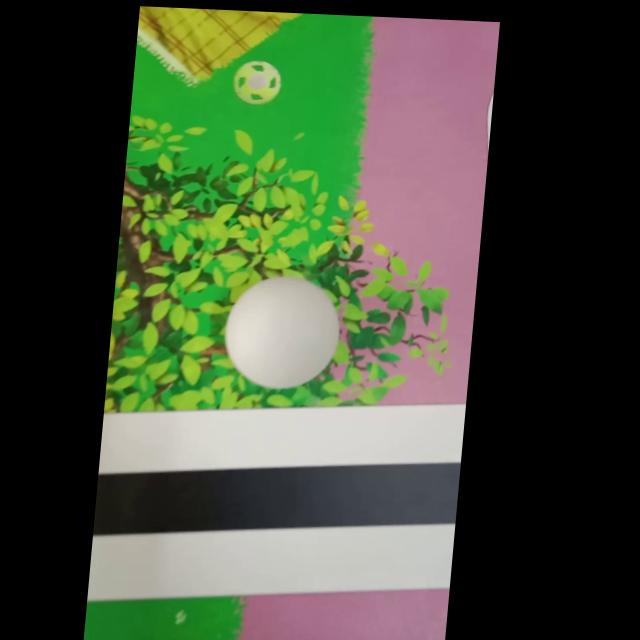white ball: (219, 272, 345, 391)
